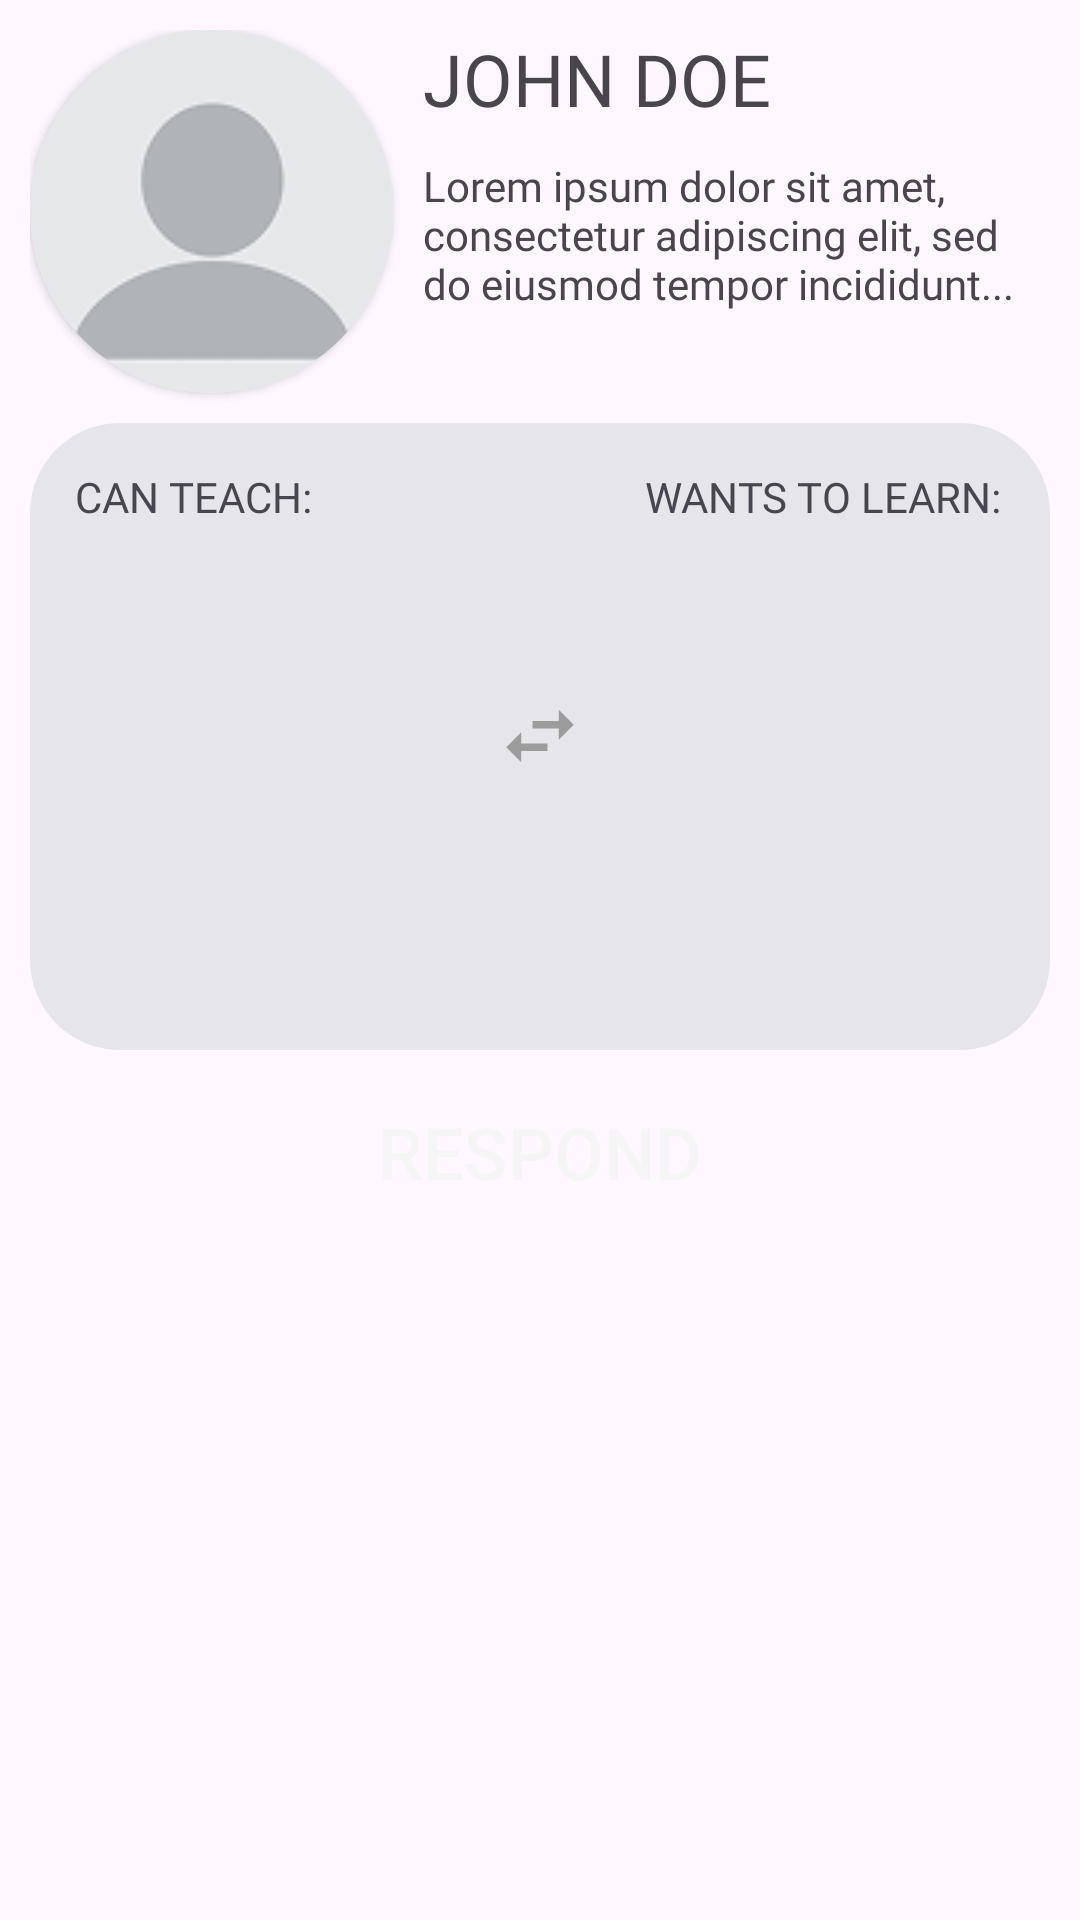

Icons on this 1080w x 1920h Android screen, each with the point to tap as (x,y):
swap: (540,736)
